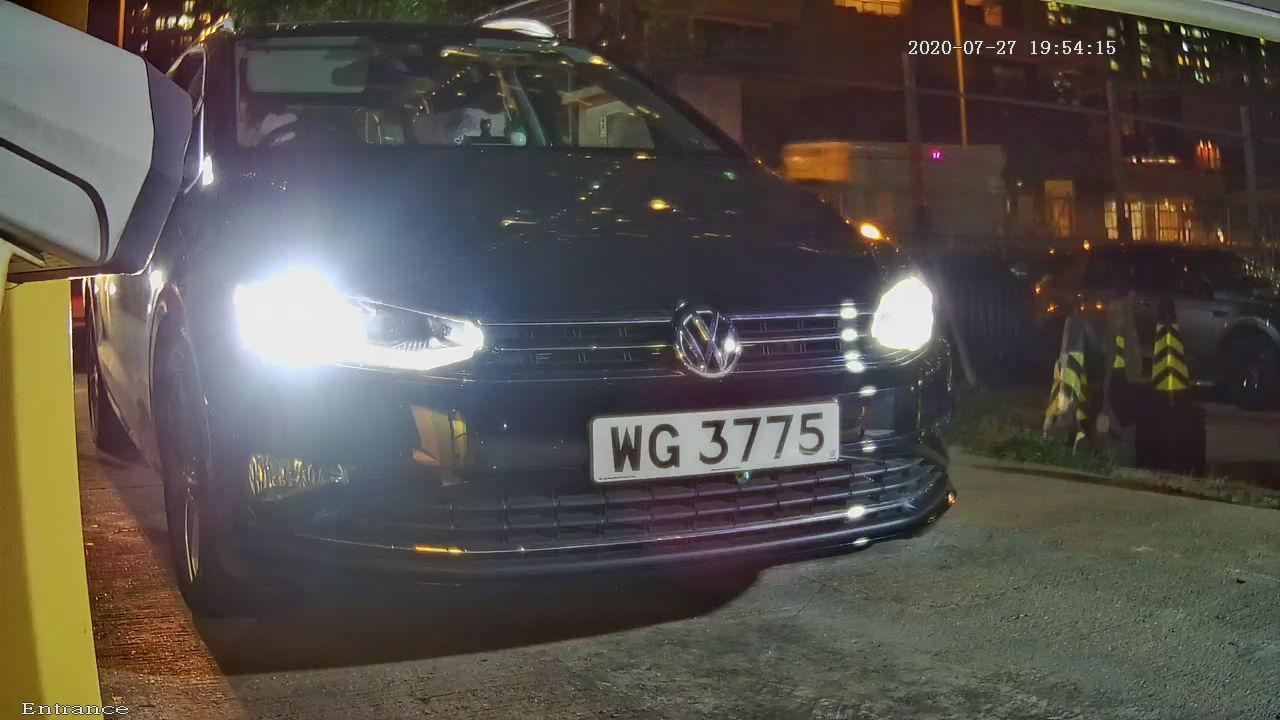privatecar: (92, 13, 1046, 647)
